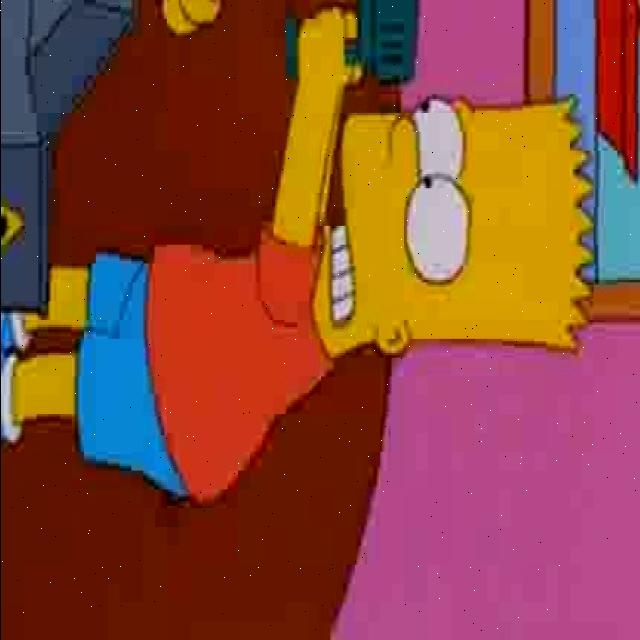Bart Simpson: (307, 96, 594, 370)
